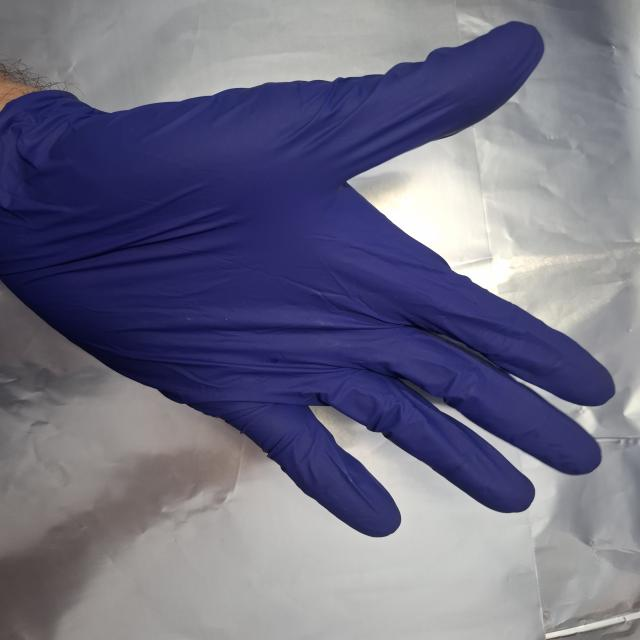glove_on: (0, 15, 620, 540)
